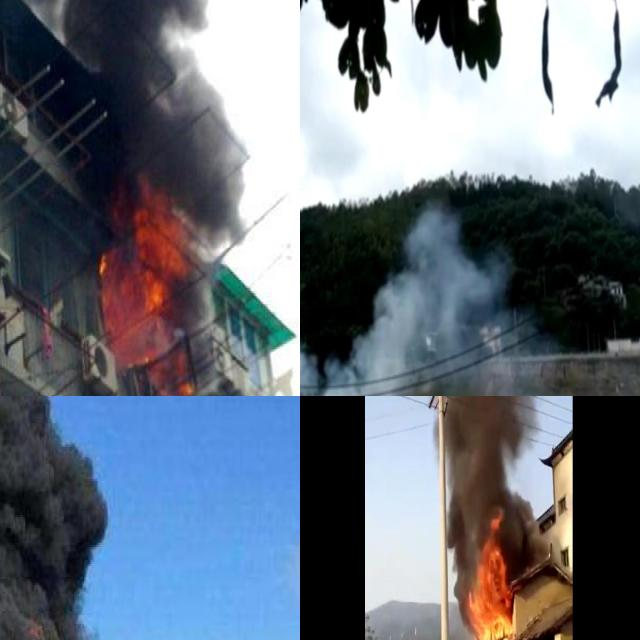fire: (98, 189, 199, 396), (468, 526, 512, 640)
smoke: (0, 396, 291, 640), (300, 212, 535, 396), (404, 396, 560, 578), (115, 72, 249, 227), (60, 0, 208, 64)
